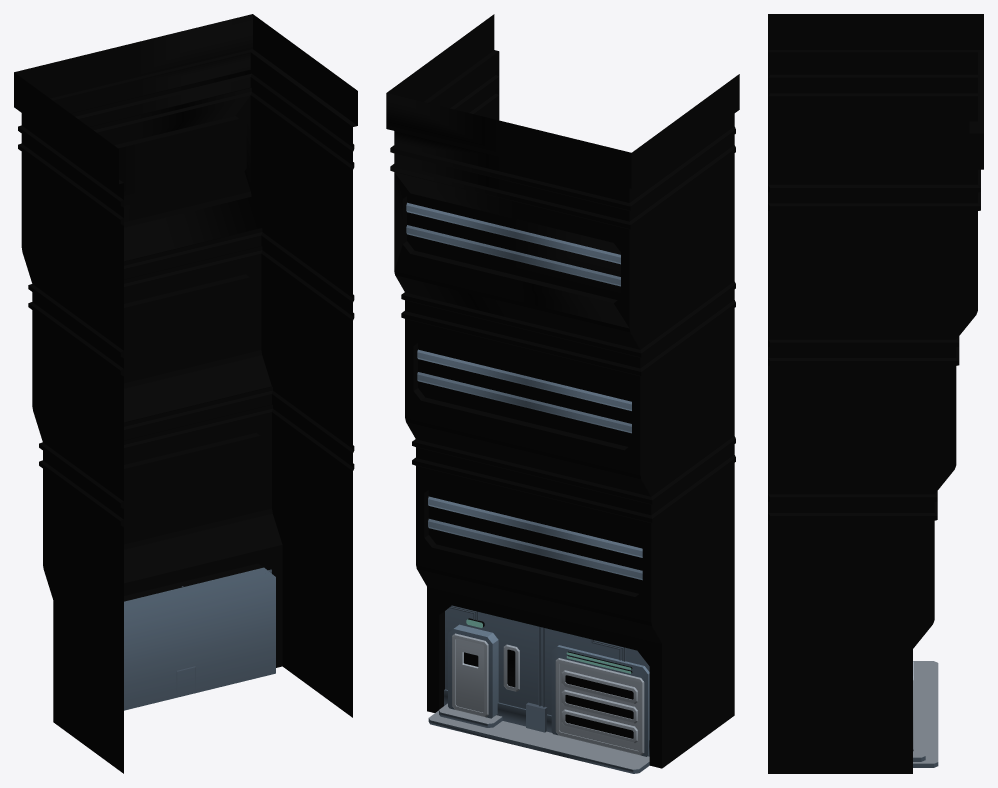
File: Ciudad_Edificio_08.FBX
3 renders of one model, left to right at view 1: azimuth 30°, elevation 25°; view 2: azimuth 150°, elevation 25°; view 3: azimuth 270°, elevation 25°, orthographic. The views are drawn at different scales.
Visible parts, largest first — view 1: Ciudad_Edificio_08; view 2: Ciudad_Edificio_08; view 3: Ciudad_Edificio_08.
Part boxes in pixels (x1,y1,x2,y2): Ciudad_Edificio_08: (14, 14, 357, 773); Ciudad_Edificio_08: (386, 14, 739, 773); Ciudad_Edificio_08: (768, 14, 983, 773).
Bounding box in the file's own units: 990 × 754 × 2480.
